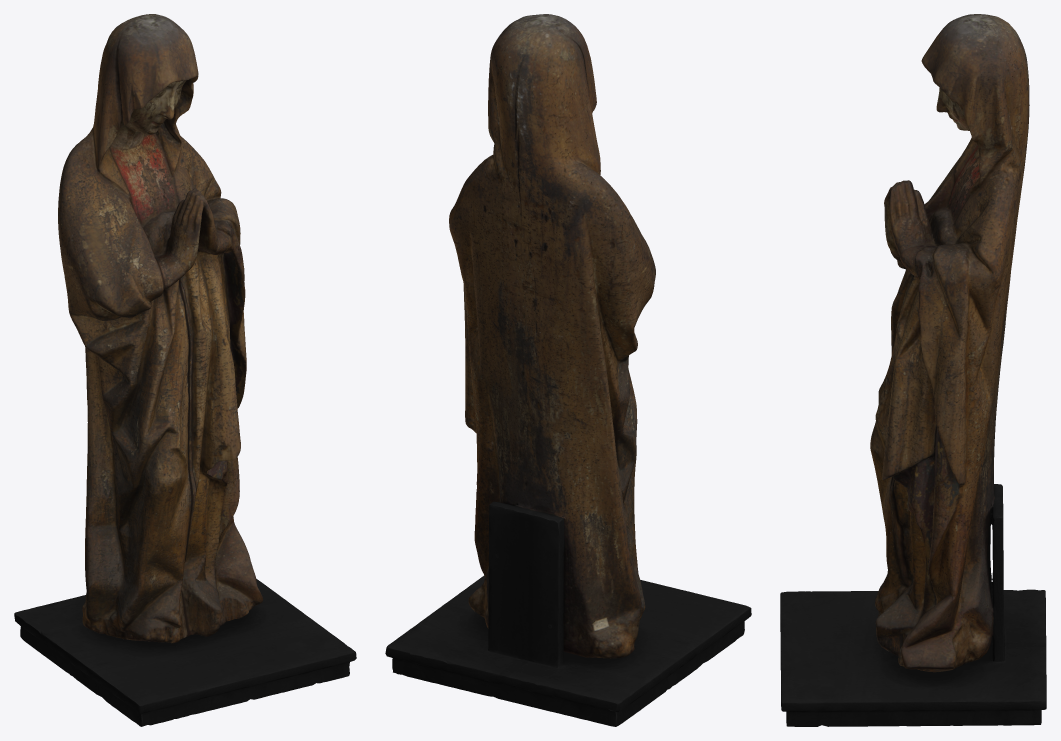
File: Mary_Statue_Sorrows.glb
3 renders of one model, left to right at view 1: azimuth 30°, elevation 25°; view 2: azimuth 150°, elevation 25°; view 3: azimuth 270°, elevation 25°, orthographic. The views are drawn at different scales.
Visible parts, largest first — view 1: Object_13, Object_4, Object_6, Object_5, Object_8, Object_7, Object_9, Object_10, Object_3, Object_11, Object_12; view 2: Object_13, Object_4, Object_3, Object_6, Object_5, Object_8, Object_7, Object_10, Object_9, Object_11, Object_12; view 3: Object_13, Object_4, Object_5, Object_6, Object_8, Object_7, Object_9, Object_3, Object_10, Object_11, Object_12.
Boxes of the visible parts, x1,y1,x2,y2 form: Object_13: (39,14,255,710); Object_4: (23,72,353,724); Object_6: (15,73,354,726); Object_5: (19,73,354,723); Object_8: (26,75,354,725); Object_7: (18,75,356,722); Object_9: (22,70,356,726); Object_10: (14,70,344,720); Object_3: (42,72,356,723); Object_11: (17,67,353,724); Object_12: (69,71,257,680); Object_13: (449,14,675,710); Object_4: (388,69,747,711); Object_3: (389,76,744,711); Object_6: (385,68,751,725); Object_5: (386,74,751,723); Object_8: (386,74,751,726); Object_7: (387,68,750,725); Object_10: (392,71,741,725); Object_9: (385,77,748,726); Object_11: (396,75,743,726); Object_12: (449,71,714,691); Object_13: (870,14,1045,712); Object_4: (780,60,1045,725); Object_5: (780,58,1046,726); Object_6: (780,56,1046,726); Object_8: (780,56,1046,726); Object_7: (780,73,1046,726); Object_9: (780,59,1046,726); Object_3: (780,60,1045,725); Object_10: (780,53,1046,726); Object_11: (780,71,1046,726); Object_12: (855,80,1045,726).
Size of the model in its own units: 471 by 1272 by 471.
1 material, 1 textured.
